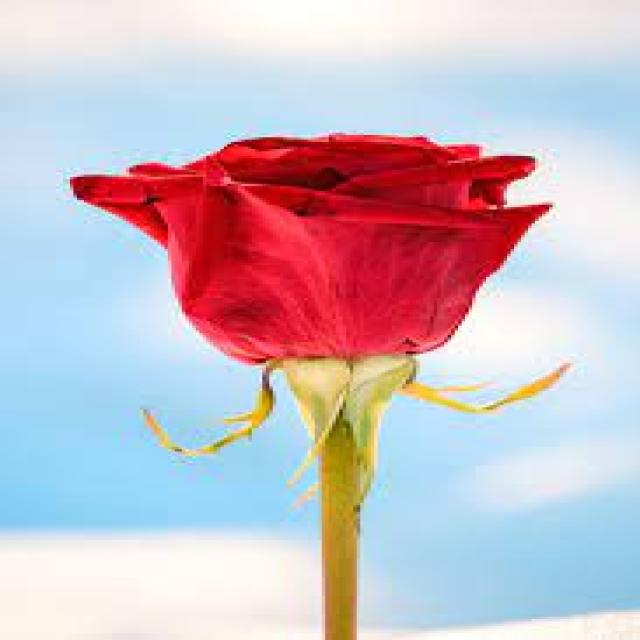rose: (49, 132, 554, 413)
